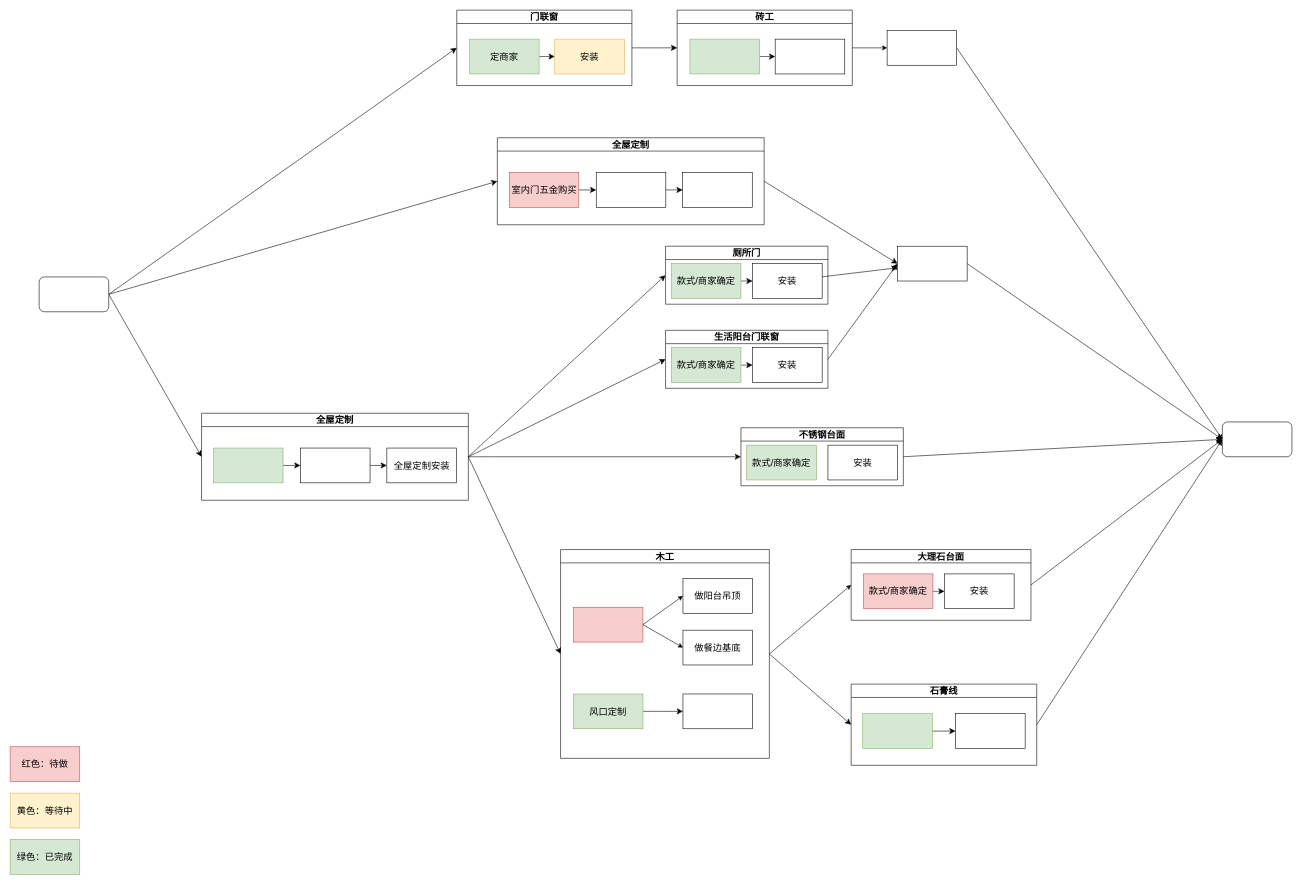
Image size: 1302x885. Some labels were removed from this diagram. Each missing label, with the centre of its shape:
"全屋定制生产" belongs at point 335,465.
"半墙砖定商家" belongs at point 724,56.
"室内实木门安装" belongs at point 717,189.
"室内实木门生产" belongs at point 631,189.
"开始" belongs at point 74,294.
"改室内吊顶" belongs at point 717,711.
"款式商家确定" belongs at point 897,730.
"烤漆门定颜色" belongs at point 248,465.
"石膏线安装" belongs at point 990,730.
"结束" belongs at point 1257,439.
"补砖" belongs at point 810,56.
"补美缝" belongs at point 922,47.
"踢脚线安装" belongs at point 932,263.
"防腐木购买" belongs at point 608,624.
